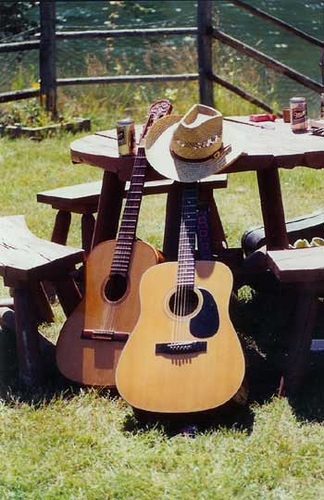guitar: (115, 144, 252, 421), (53, 103, 171, 391)
